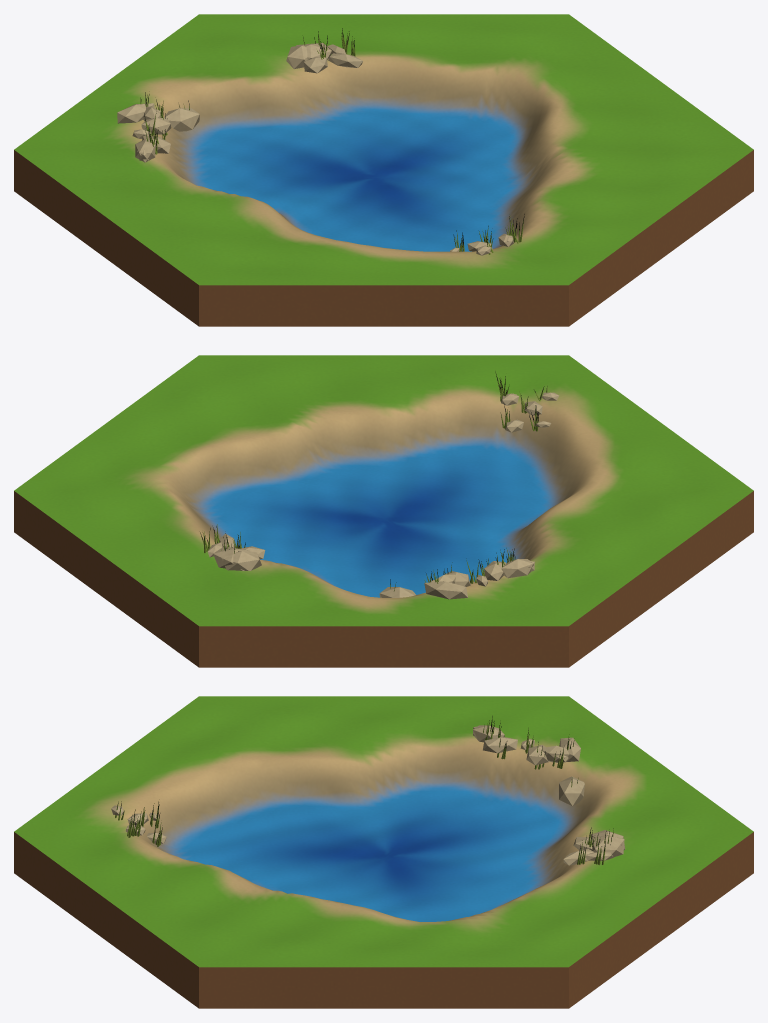
The model's file is SM_LagoNatural_A_LOD0.fbx.
The picture shows the model from 3 angles, top to bottom: view 1: azimuth 30°, elevation 25°; view 2: azimuth 150°, elevation 25°; view 3: azimuth 270°, elevation 25°; orthographic projection.
Parts seen in each view (by area): view 1: SM_LagoNatural_A_LOD0; view 2: SM_LagoNatural_A_LOD0; view 3: SM_LagoNatural_A_LOD0.
Part boxes in pixels (left/top/right/bottom): SM_LagoNatural_A_LOD0: left=14, top=14, right=753, bottom=326; SM_LagoNatural_A_LOD0: left=14, top=355, right=753, bottom=667; SM_LagoNatural_A_LOD0: left=14, top=696, right=753, bottom=1008.
Bounding box in the file's own units: 1.68 × 0.2037 × 1.94.
Materials: 1 (1 with a texture image).
